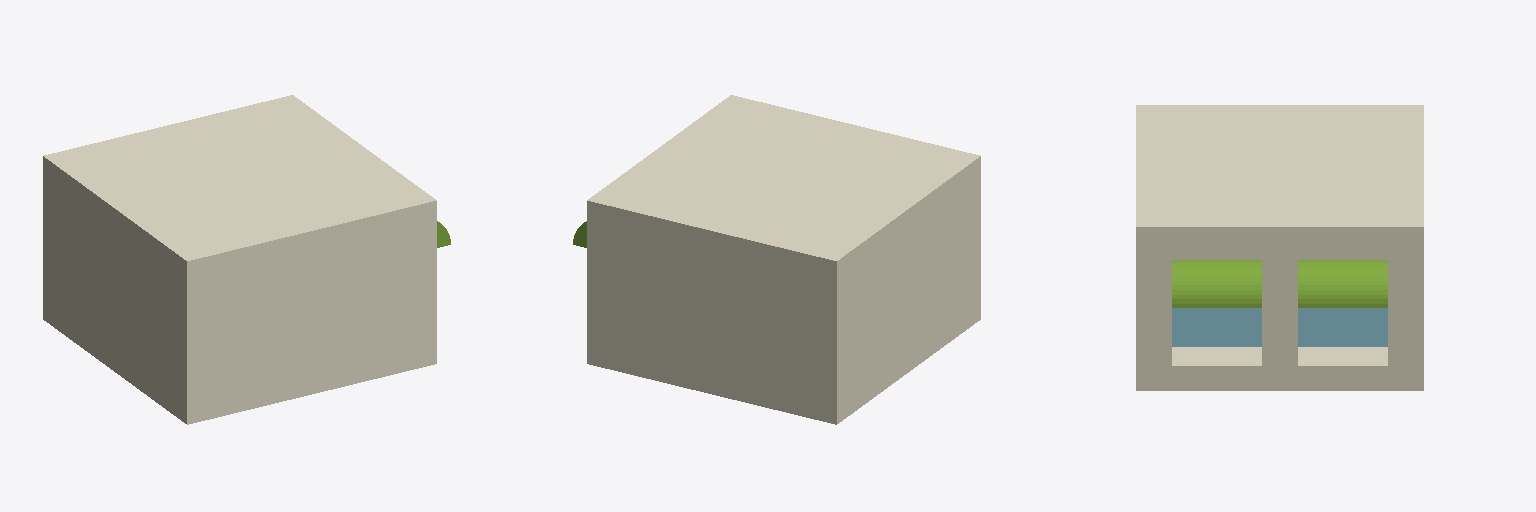
The model's file is building_032.obj.
3 views of the same model, side by side, from view 1: azimuth 30°, elevation 25°; view 2: azimuth 150°, elevation 25°; view 3: azimuth 270°, elevation 25° (orthographic).
Parts seen in each view (by area): view 1: building_032; view 2: building_032; view 3: building_032.
Boxes of the visible parts, <box> form: building_032: <box>43,95,450,424</box>; building_032: <box>573,95,980,424</box>; building_032: <box>1136,105,1423,390</box>.
Bounding box in the file's own units: 1.13 × 0.625 × 1.